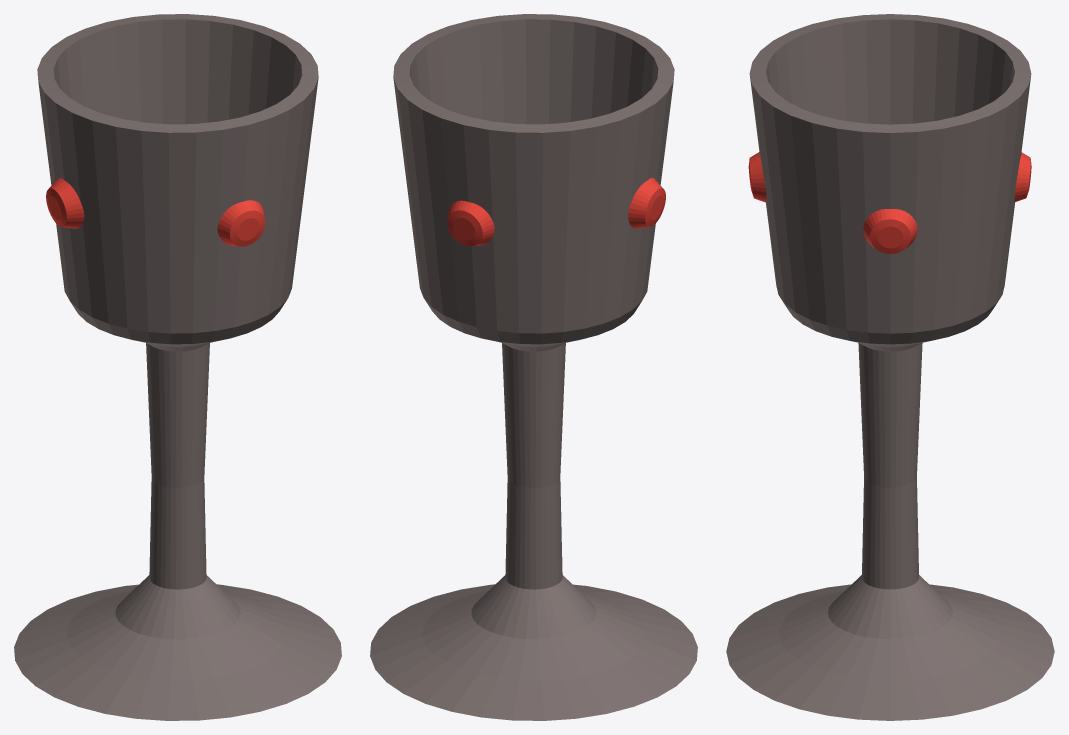
The model's file is Kielich.fbx.
3 renders of one model, left to right at view 1: azimuth 30°, elevation 25°; view 2: azimuth 150°, elevation 25°; view 3: azimuth 270°, elevation 25°, orthographic.
Parts seen in each view (by area): view 1: Cylinder.004; view 2: Cylinder.004; view 3: Cylinder.004.
Boxes of the visible parts, left/top/right/bottom form: Cylinder.004: left=14, top=14, right=341, bottom=720; Cylinder.004: left=370, top=14, right=697, bottom=720; Cylinder.004: left=726, top=14, right=1054, bottom=720.
Size of the model in its own units: 87.73 by 171 by 87.73.
